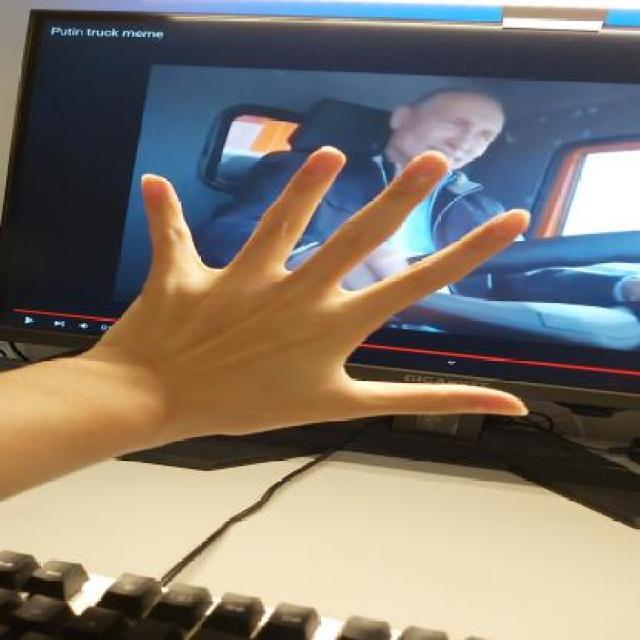bare_hand: (66, 138, 548, 464)
